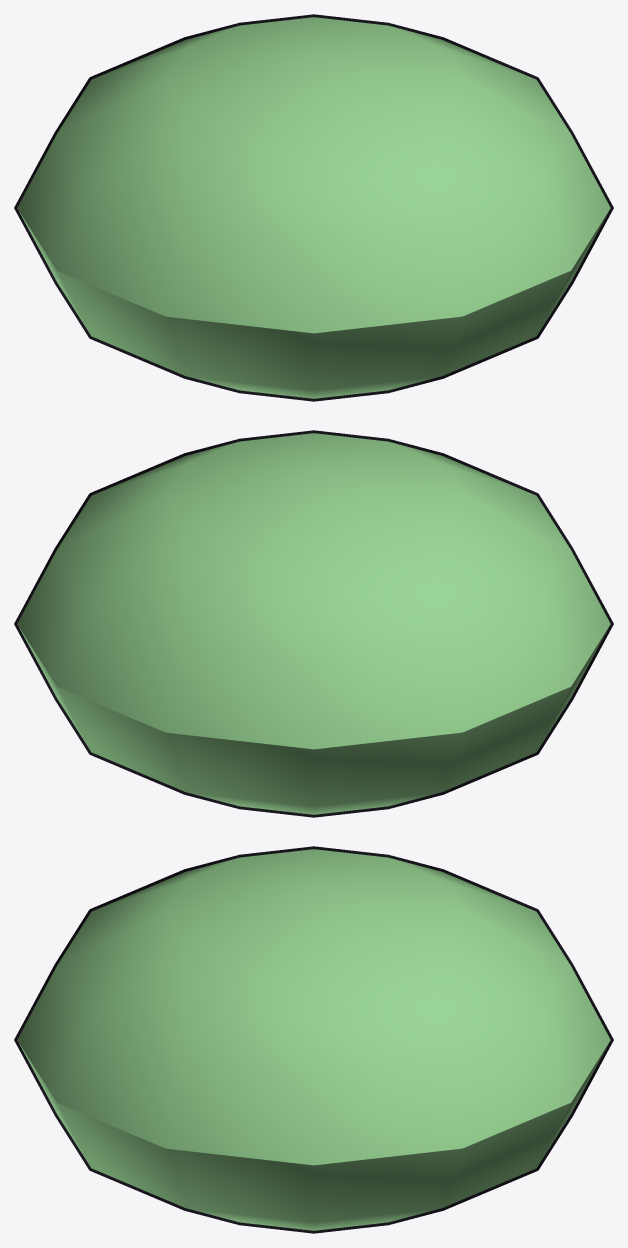
Rendered from fps-common.glb.
3 renders of one model, top to bottom at view 1: azimuth 30°, elevation 25°; view 2: azimuth 150°, elevation 25°; view 3: azimuth 270°, elevation 25°, orthographic.
Parts seen in each view (by area): view 1: Hill; view 2: Hill; view 3: Hill.
Part boxes in pixels (x1=…): Hill: x1=14, y1=14, x2=613, y2=401; Hill: x1=14, y1=430, x2=613, y2=817; Hill: x1=14, y1=846, x2=613, y2=1233.
Size of the model in its own units: 32.34 by 17.9 by 32.34.
Materials: 1 (1 with a texture image).
